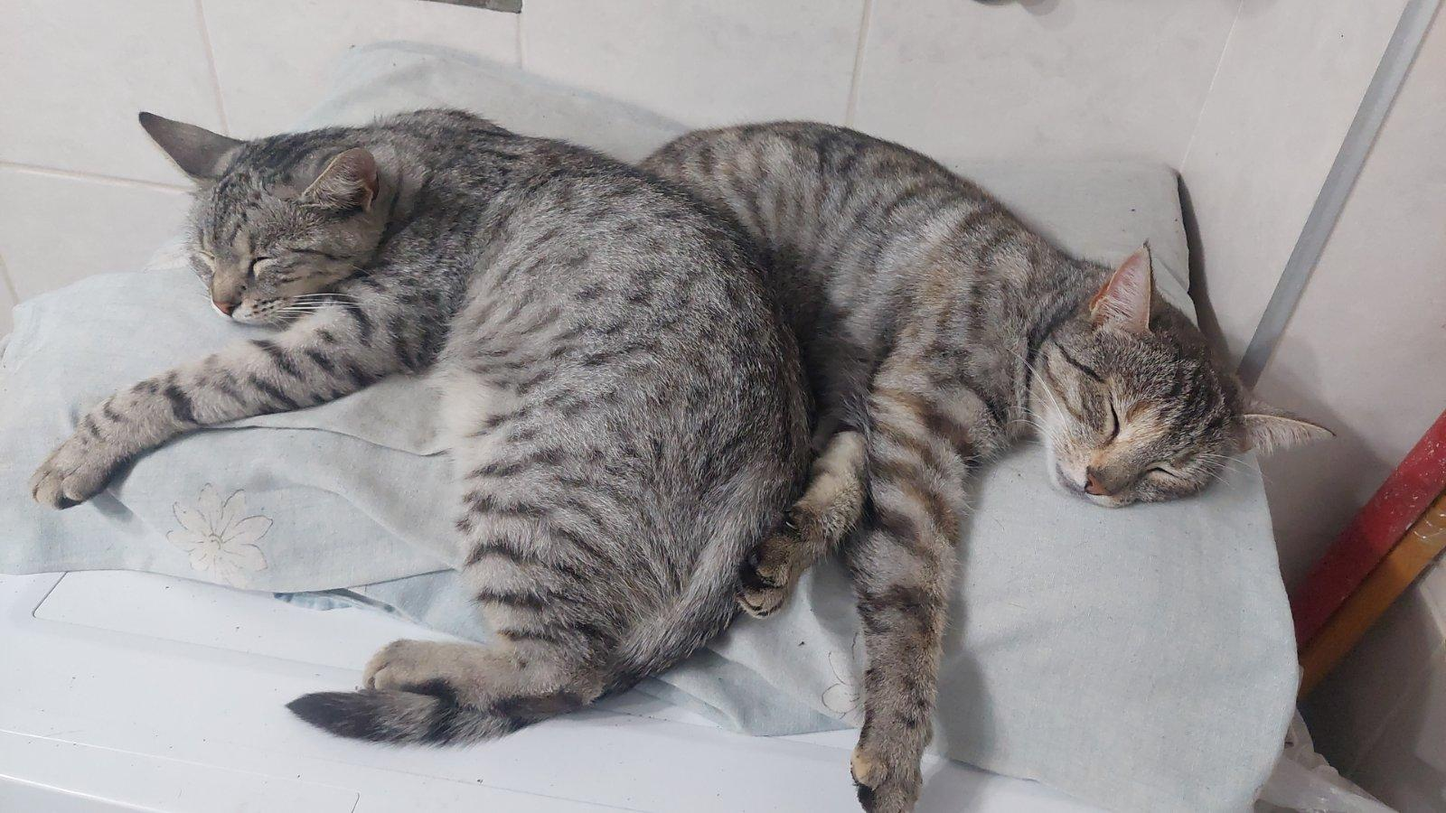macka: (622, 123, 1336, 813), (31, 109, 798, 741)
